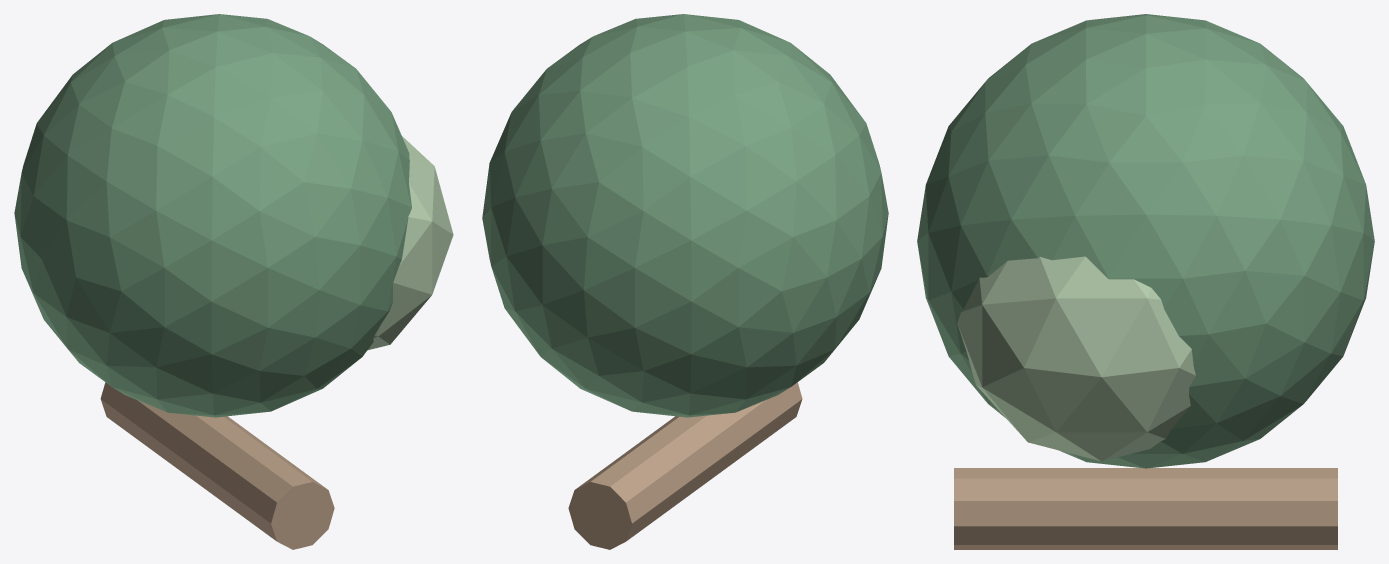
File: tree_deciduous.glb
3 views of the same model, side by side, from view 1: azimuth 30°, elevation 25°; view 2: azimuth 150°, elevation 25°; view 3: azimuth 270°, elevation 25° (orthographic). The views are drawn at different scales.
Parts seen in each view (by area): view 1: p001, p000, p002; view 2: p001, p000; view 3: p001, p002, p000.
Part boxes in pixels (left/top/right/bottom): p001: left=14, top=14, right=411, bottom=417; p000: left=100, top=382, right=334, bottom=549; p002: left=368, top=136, right=453, bottom=349; p001: left=482, top=14, right=888, bottom=417; p000: left=568, top=382, right=802, bottom=549; p001: left=917, top=14, right=1374, bottom=468; p002: left=957, top=256, right=1195, bottom=461; p000: left=954, top=468, right=1337, bottom=549.
Bounding box in the file's own units: 3.3 × 3.82 × 3.1.
